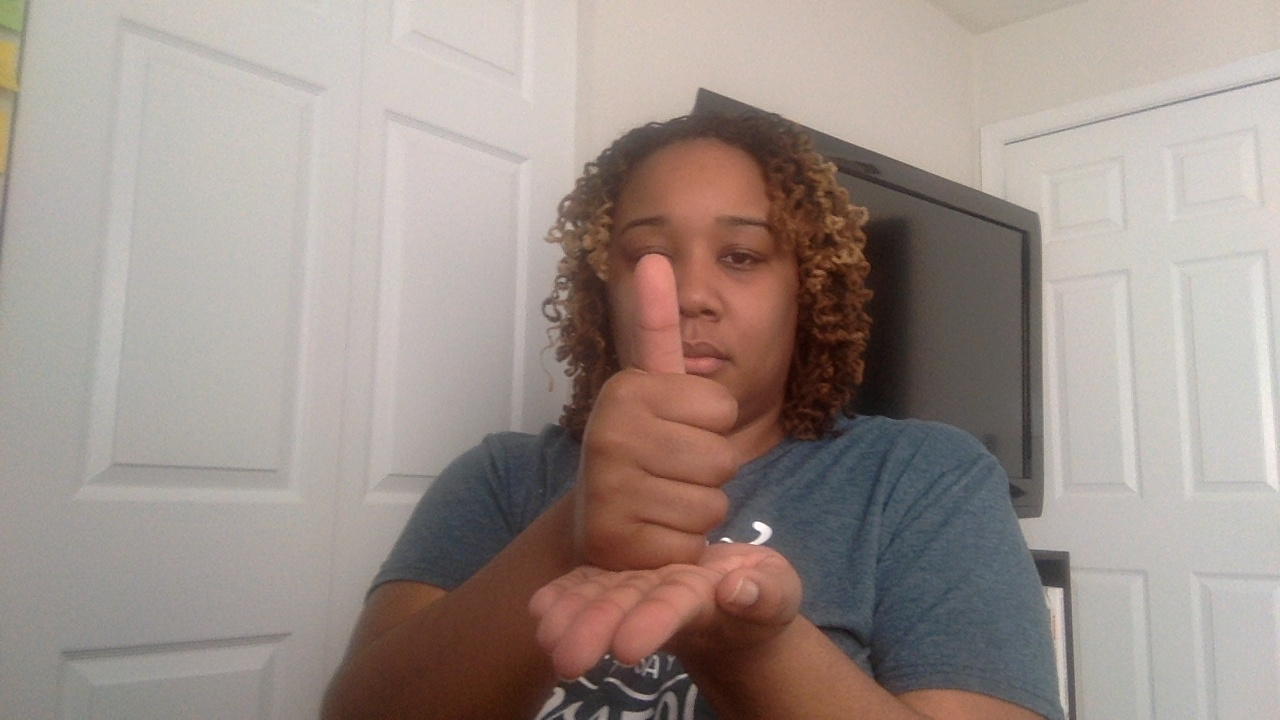help: (535, 254, 805, 694)
